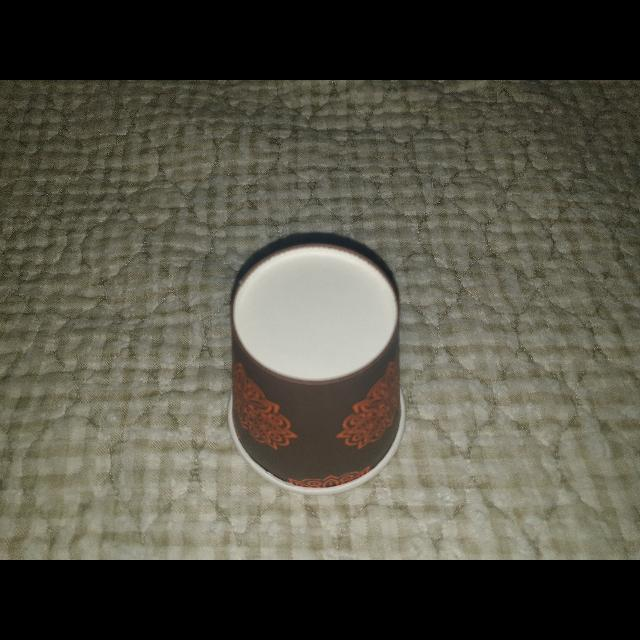trash: (218, 237, 412, 496)
